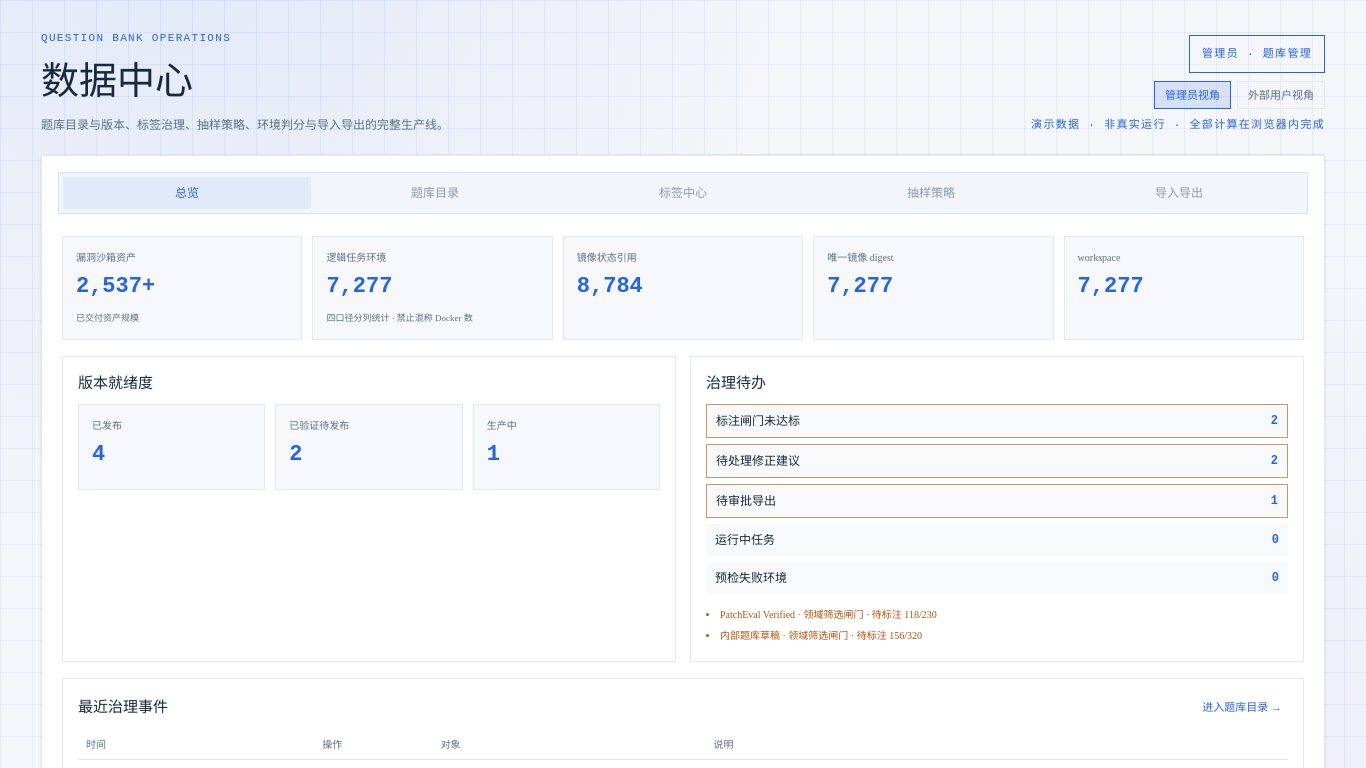
DataCenter question bank › shows the sampling preview with dedup and runnable counters plus the frozen tuple (admin view)
Click the tab "抽样策略": (931, 192) top-left (807, 176), bottom-right (1055, 208)
(page scrolled)
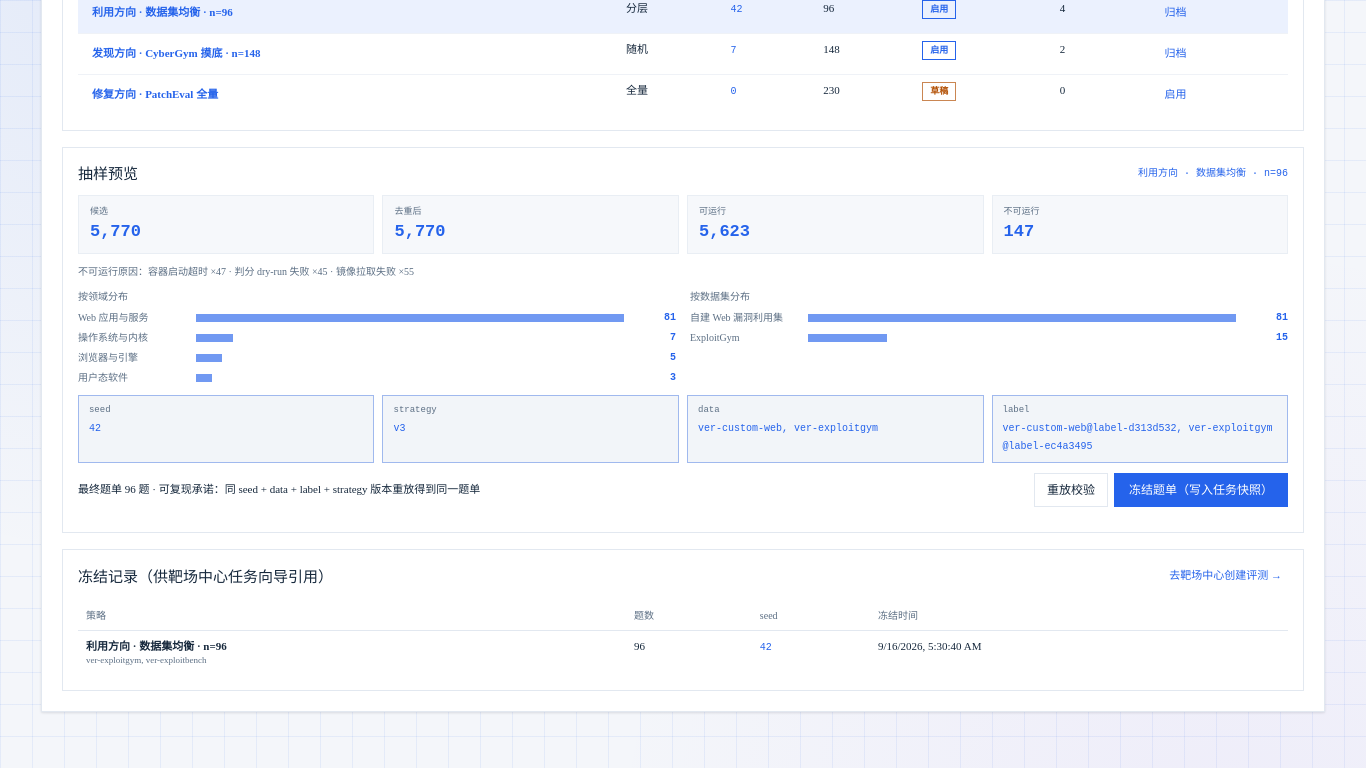
Expected: the text "候选" is shown, top-left (90, 206), bottom-right (108, 216)
Expected: the text "去重后" is shown, top-left (394, 206), bottom-right (422, 216)
Expected: the text "可运行" is shown, top-left (699, 206), bottom-right (726, 216)
